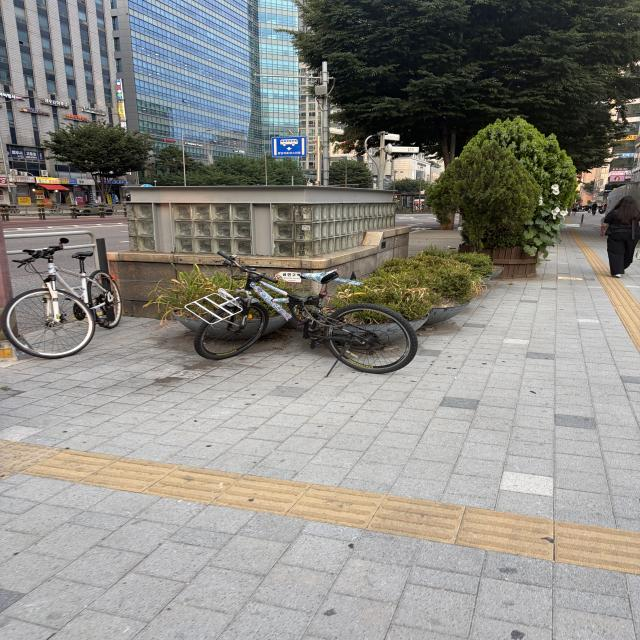bicycle: (164, 242, 463, 401), (8, 222, 134, 369)
